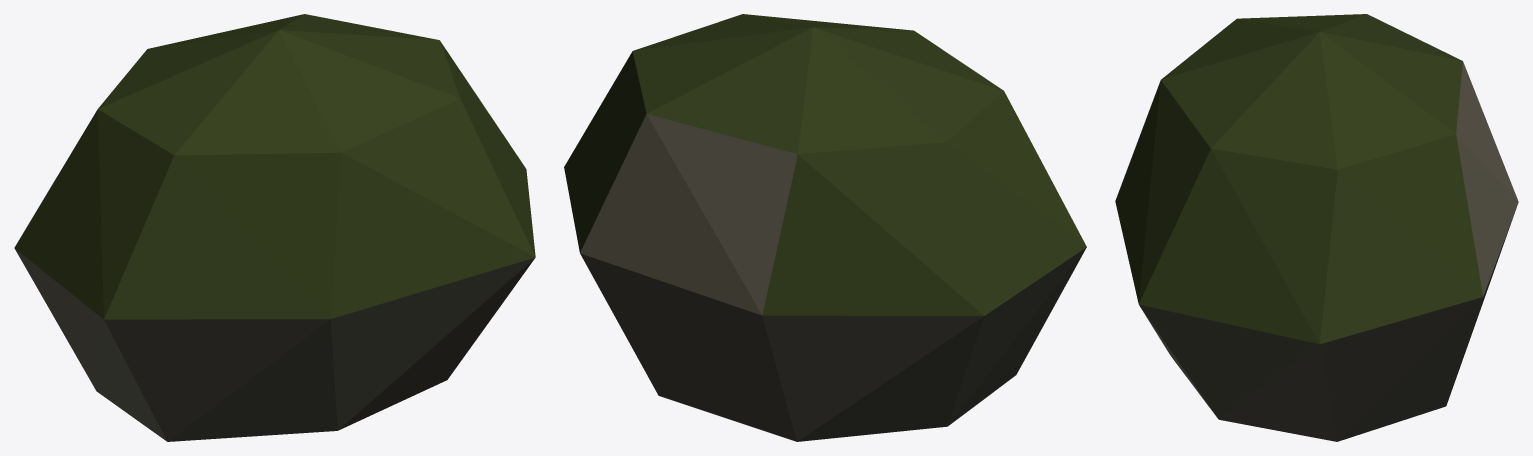
The model's file is Rock_MossyMedium_02.fbx.
3 renders of one model, left to right at view 1: azimuth 30°, elevation 25°; view 2: azimuth 150°, elevation 25°; view 3: azimuth 270°, elevation 25°, orthographic. The views are drawn at different scales.
Visible parts, largest first — view 1: Rock_MossyMedium_02_Mesh; view 2: Rock_MossyMedium_02_Mesh; view 3: Rock_MossyMedium_02_Mesh.
Boxes of the visible parts, x1,y1,x2,y2 form: Rock_MossyMedium_02_Mesh: [14, 14, 535, 441]; Rock_MossyMedium_02_Mesh: [564, 14, 1086, 441]; Rock_MossyMedium_02_Mesh: [1115, 14, 1518, 441].
Bounding box in the file's own units: 1.04 × 0.84 × 0.7887.
Materials: 1 (1 with a texture image).
